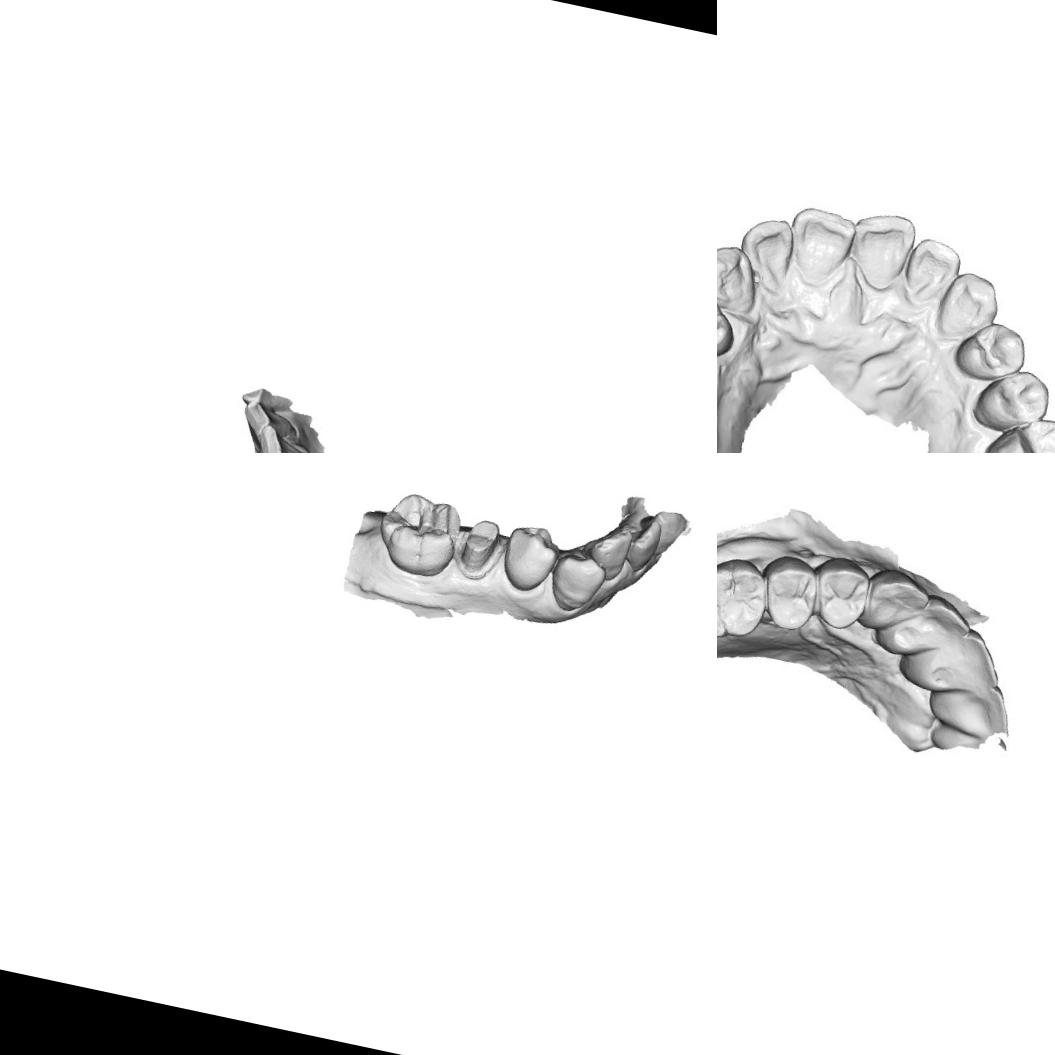canine: (856, 564, 933, 642), (932, 265, 1006, 346), (546, 550, 608, 617), (717, 239, 763, 315)
crown: (449, 505, 510, 587)
incisor: (870, 584, 978, 675), (896, 622, 1009, 706), (782, 204, 858, 290), (919, 678, 1012, 748), (848, 208, 921, 296), (898, 237, 962, 317), (736, 214, 800, 291), (583, 520, 634, 583), (621, 516, 664, 573), (250, 422, 329, 453), (649, 508, 689, 555)
molar: (371, 487, 464, 583), (717, 553, 776, 644), (975, 406, 1055, 453)
premolar: (968, 365, 1052, 441), (950, 316, 1032, 389), (496, 520, 564, 600), (810, 556, 874, 635), (760, 554, 822, 631), (717, 285, 742, 364)
